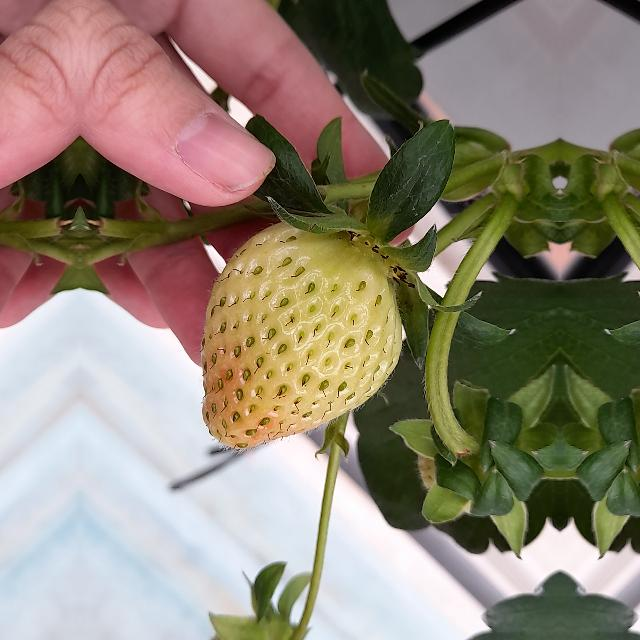Health_50: (200, 222, 402, 450)
